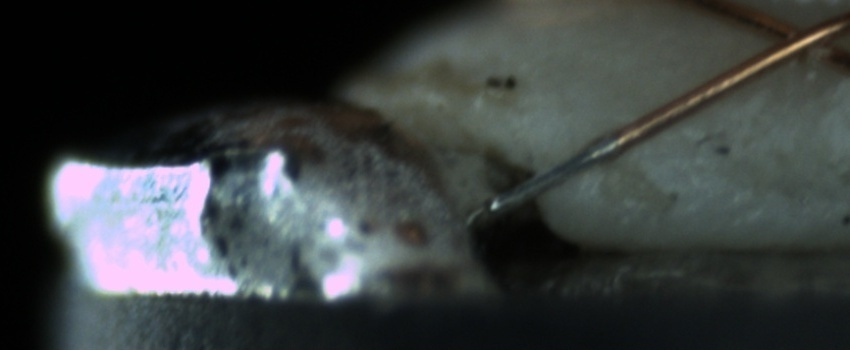CL: (748, 4, 846, 70)
TS: (481, 132, 622, 223)
TTCW: (476, 113, 649, 224)
